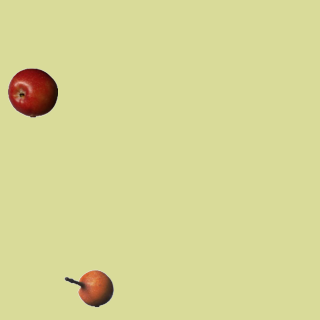Apple Braeburn: (7, 67, 57, 117)
Granadilla: (63, 263, 113, 313)
